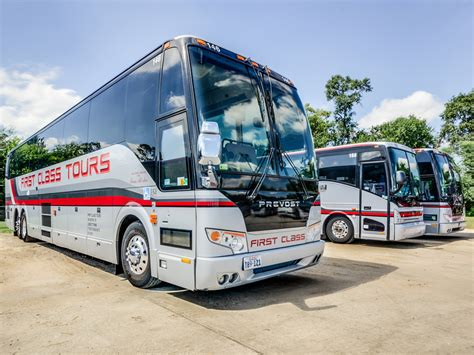bus: (4, 44, 321, 294), (319, 147, 425, 240)
